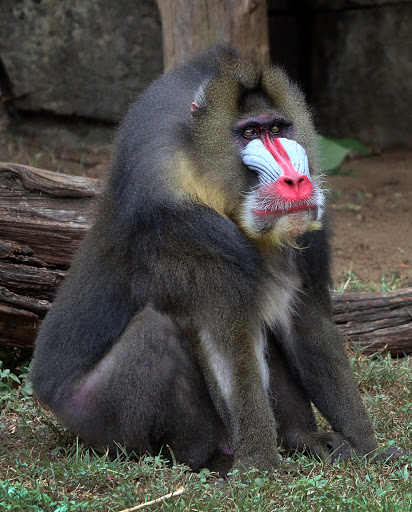Mandrill: (79, 52, 332, 442)
